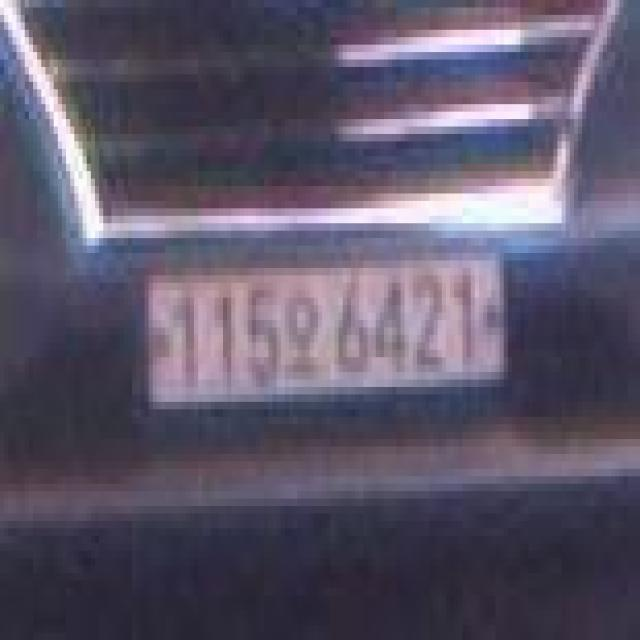illegal_plate: (136, 238, 513, 426)
